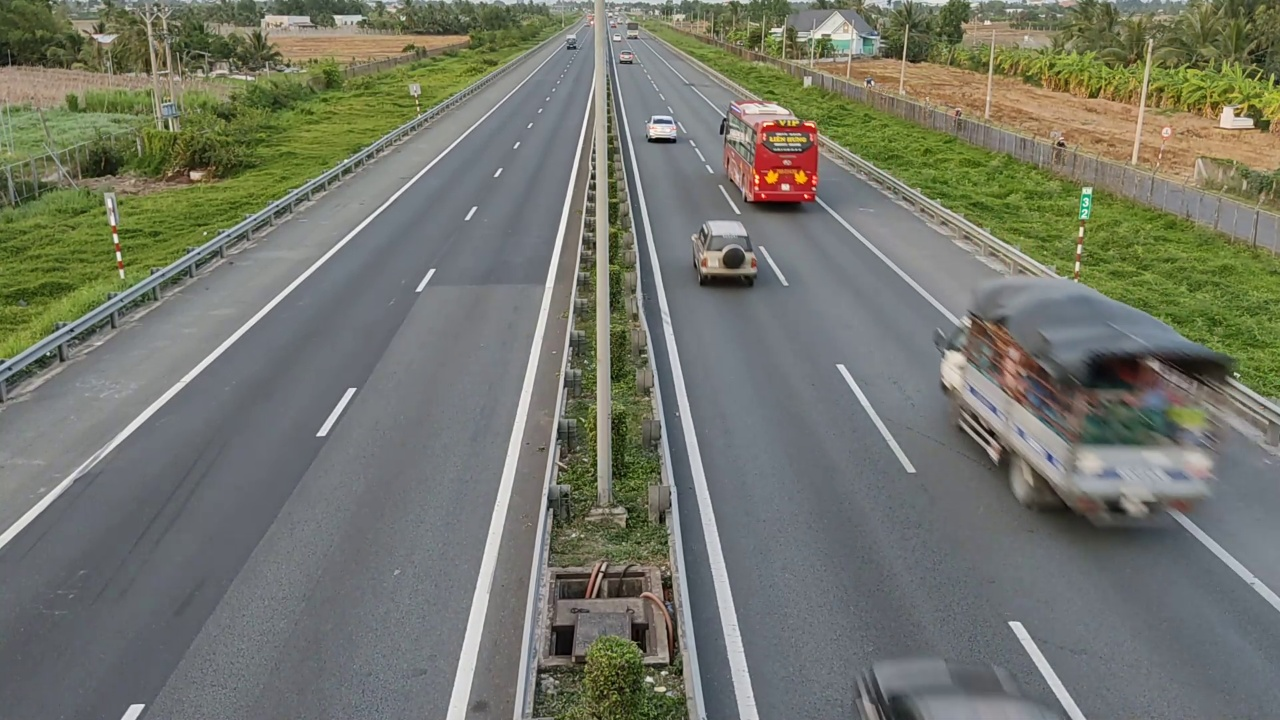bus: (721, 99, 819, 203)
car: (691, 218, 759, 287), (645, 114, 677, 143)
truck: (933, 274, 1235, 531)
